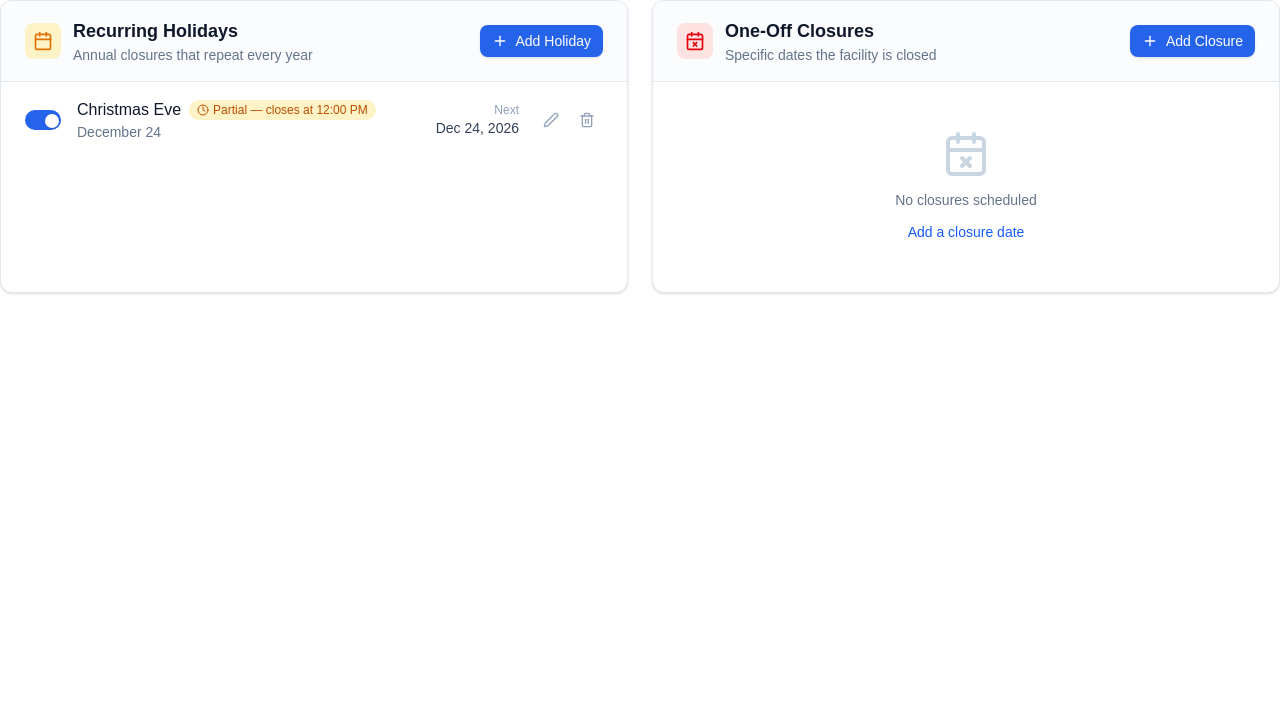
Test: HolidaysTab › holiday dialog › pre-fills partial fields when editing a partial holiday
# Click edit on Christmas Eve
Click the button named "Edit Christmas Eve" at (551, 120), box x1=535 y1=104 x2=567 y2=136
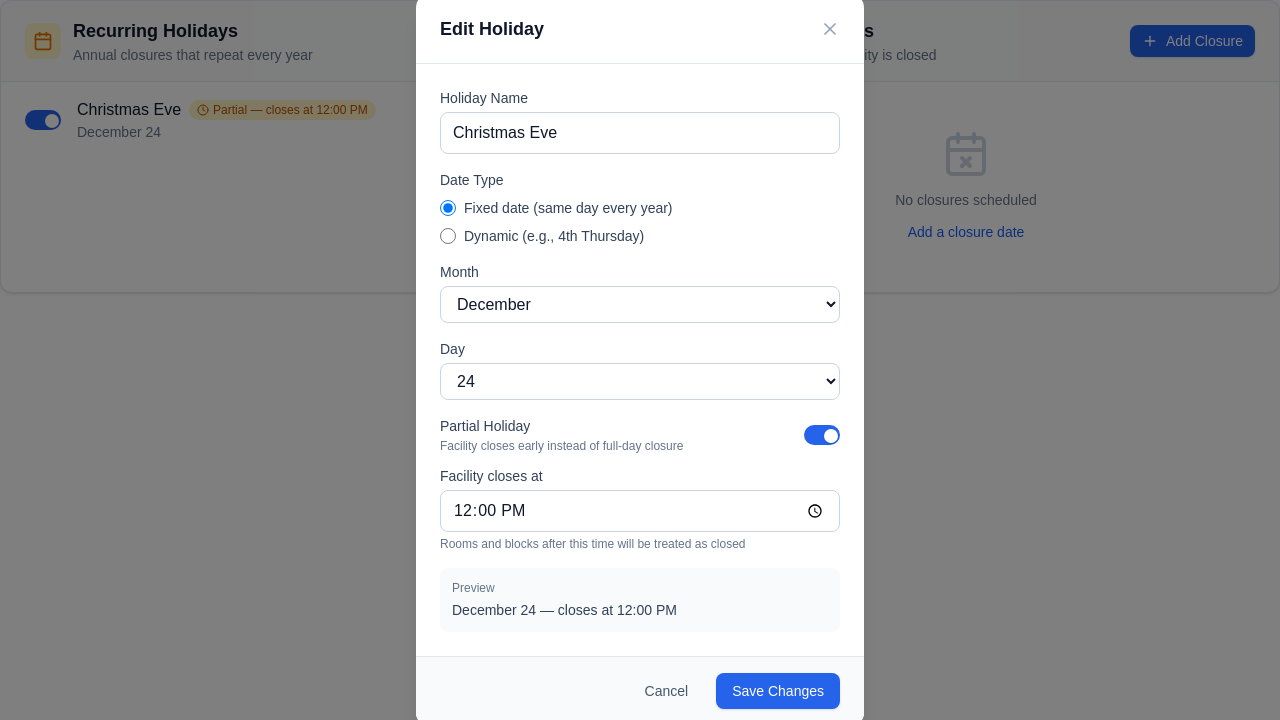
Now the heading "Edit Holiday" is shown, box x1=440 y1=15 x2=544 y2=43
Now the text "Facility closes at" is shown, box x1=440 y1=468 x2=543 y2=484
